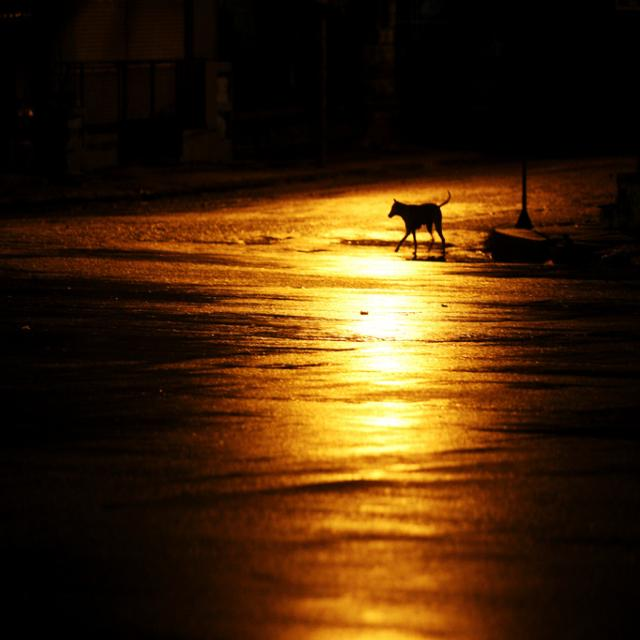dog: (376, 188, 455, 291)
